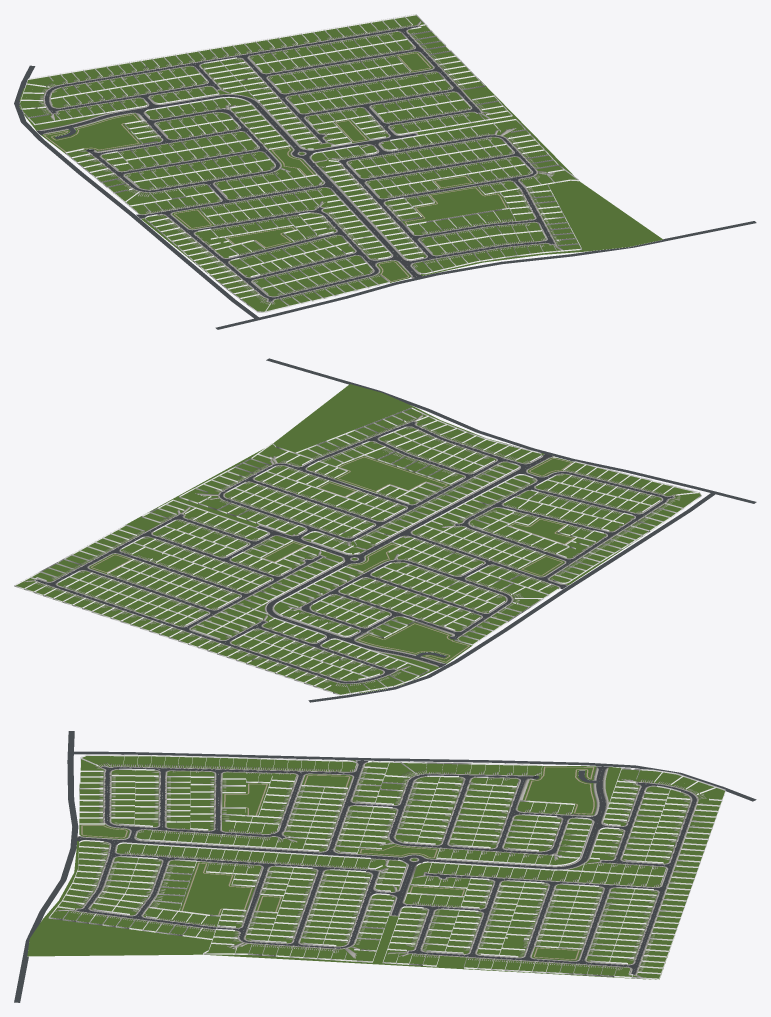
File: ground.glb
3 renders of one model, top to bottom at view 1: azimuth 30°, elevation 25°; view 2: azimuth 150°, elevation 25°; view 3: azimuth 270°, elevation 25°, orthographic. The views are drawn at different scales.
Visible parts, largest first — view 1: __ground_export; view 2: __ground_export; view 3: __ground_export.
Part boxes in pixels (<box>): __ground_export: <box>14,14,756,329</box>; __ground_export: <box>14,358,756,702</box>; __ground_export: <box>14,731,756,1002</box>.
Size of the model in its own units: 627 by 1.73 by 724.
